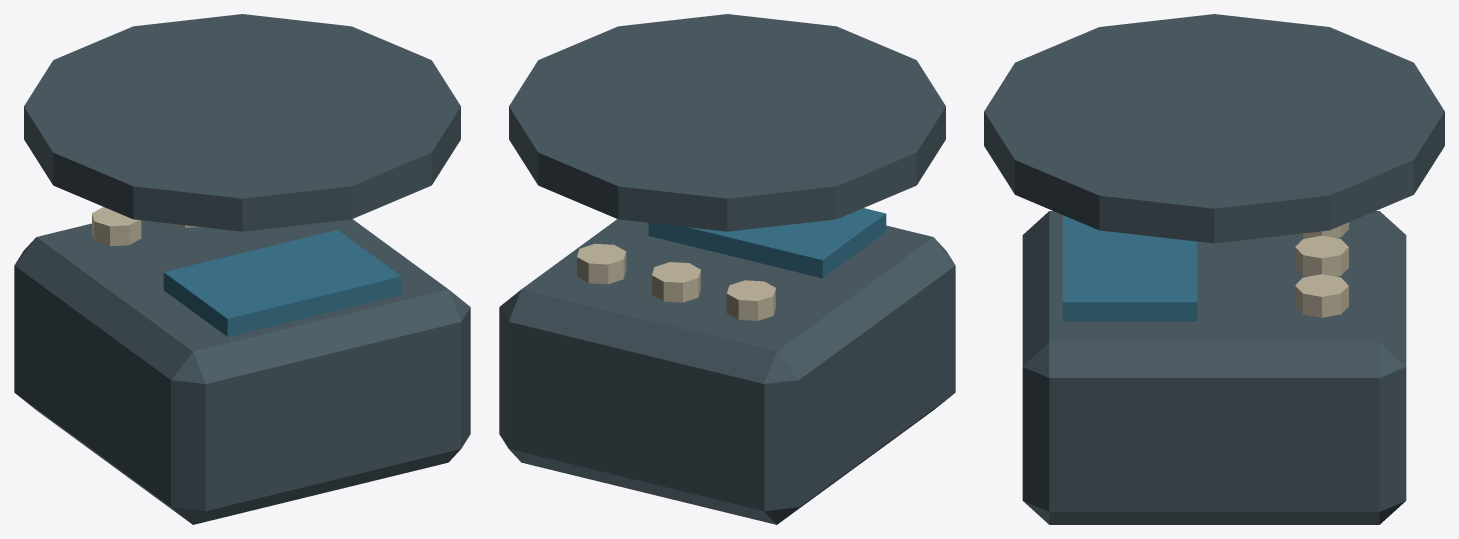
The model's file is set_shop_scale.glb.
3 views of the same model, side by side, from view 1: azimuth 30°, elevation 25°; view 2: azimuth 150°, elevation 25°; view 3: azimuth 270°, elevation 25° (orthographic). The views are drawn at different scales.
Parts seen in each view (by area): view 1: set_shop_scale; view 2: set_shop_scale; view 3: set_shop_scale.
Part boxes in pixels (box(x1,y1,x2,y2)): set_shop_scale: box(14, 14, 470, 524); set_shop_scale: box(499, 14, 955, 524); set_shop_scale: box(984, 14, 1444, 524).
Bounding box in the file's own units: 0.24 × 0.2 × 0.24.
